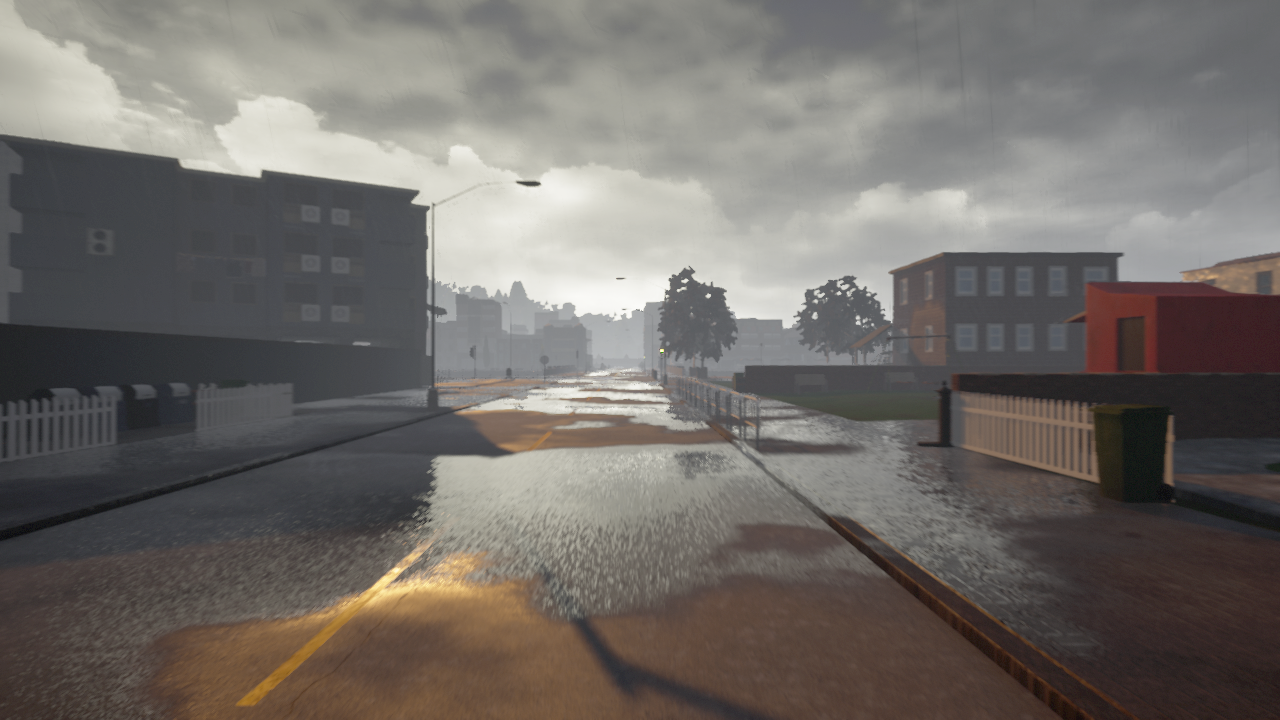yellow: (658, 345, 665, 359)
